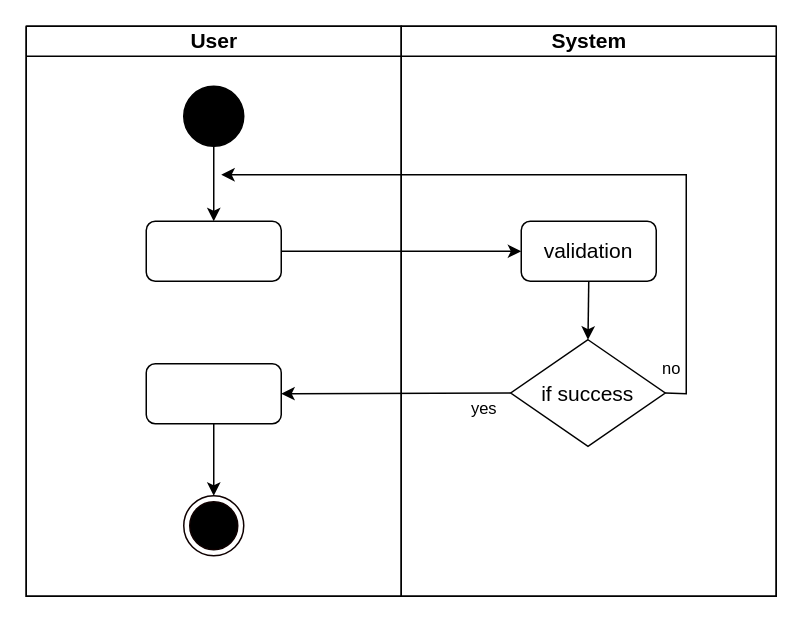
This 803x623 diagram has some shape labels left out. Here are the shapes that lost their labels. From the top down, the centre of each, then its label:
At point (213, 250): "Process Payment".
At point (213, 393): "order placed".
